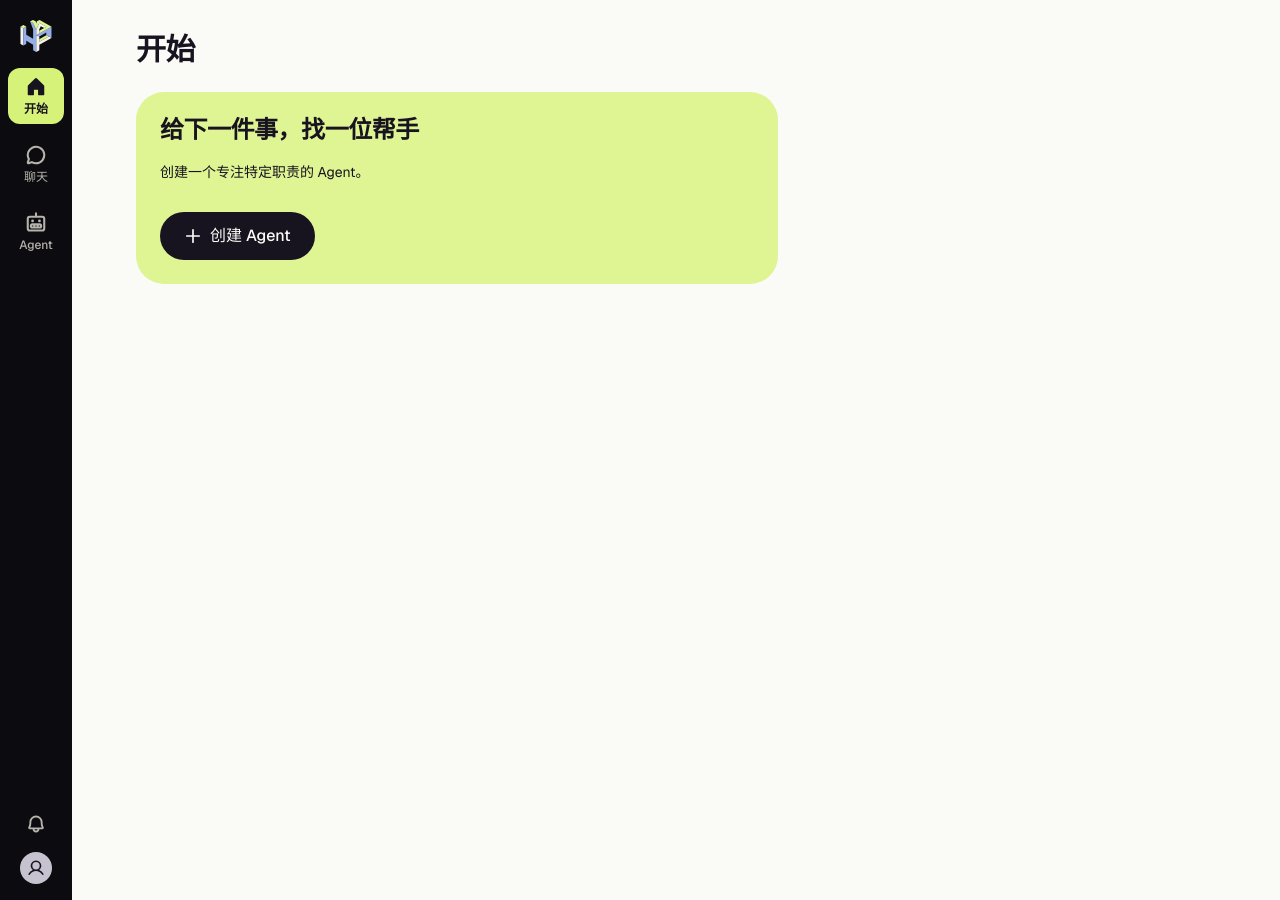
Scenario: fixture app shell › navigates between primary pages and marks the current navigation item
This screenshot has width=1280, height=900.
Click the button "聊天" at (36, 164), box [8,136,64,192]
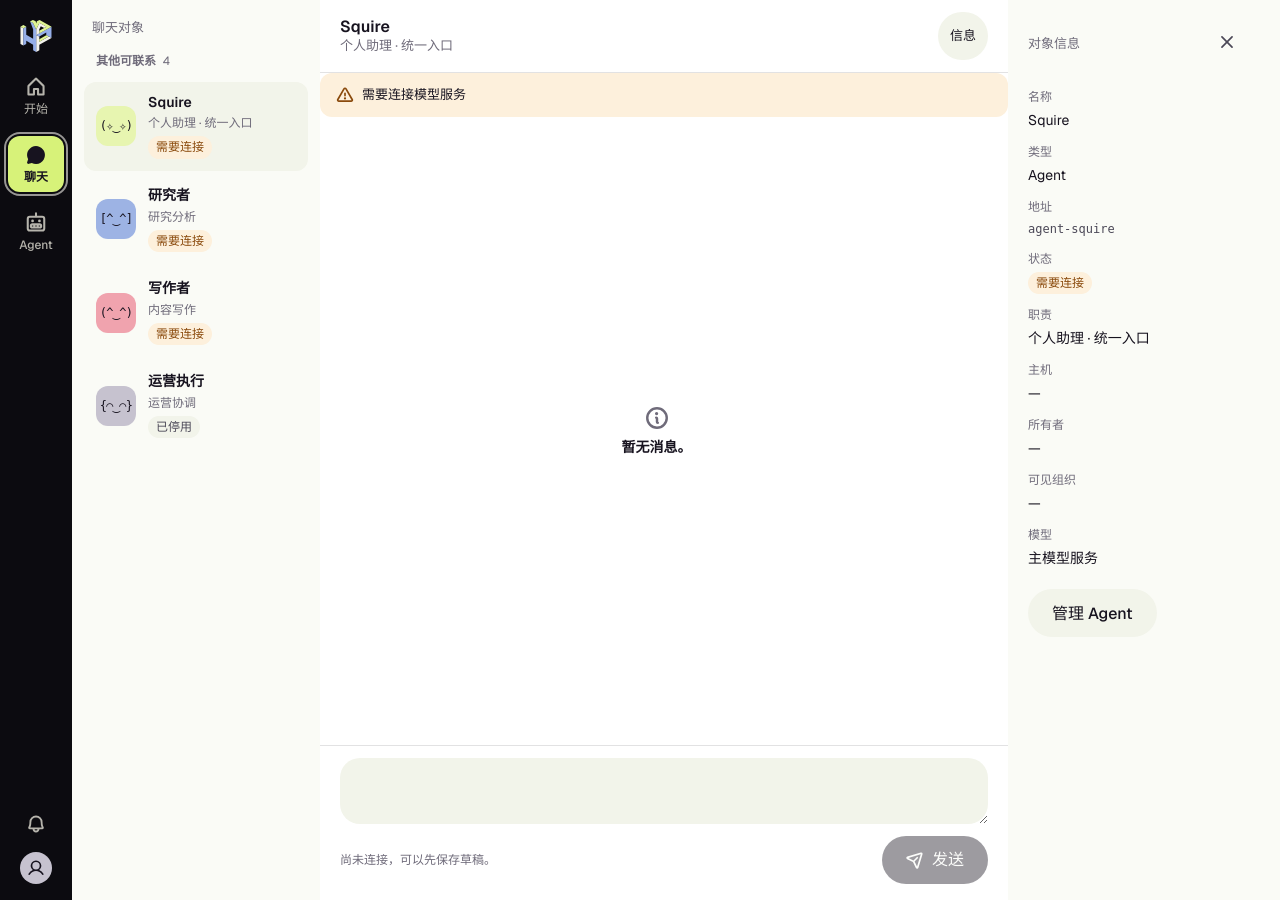
Now the button "聊天" is marked as current, box [8,136,64,192]
Click the button "Agent" at (36, 232), box [8,204,64,260]
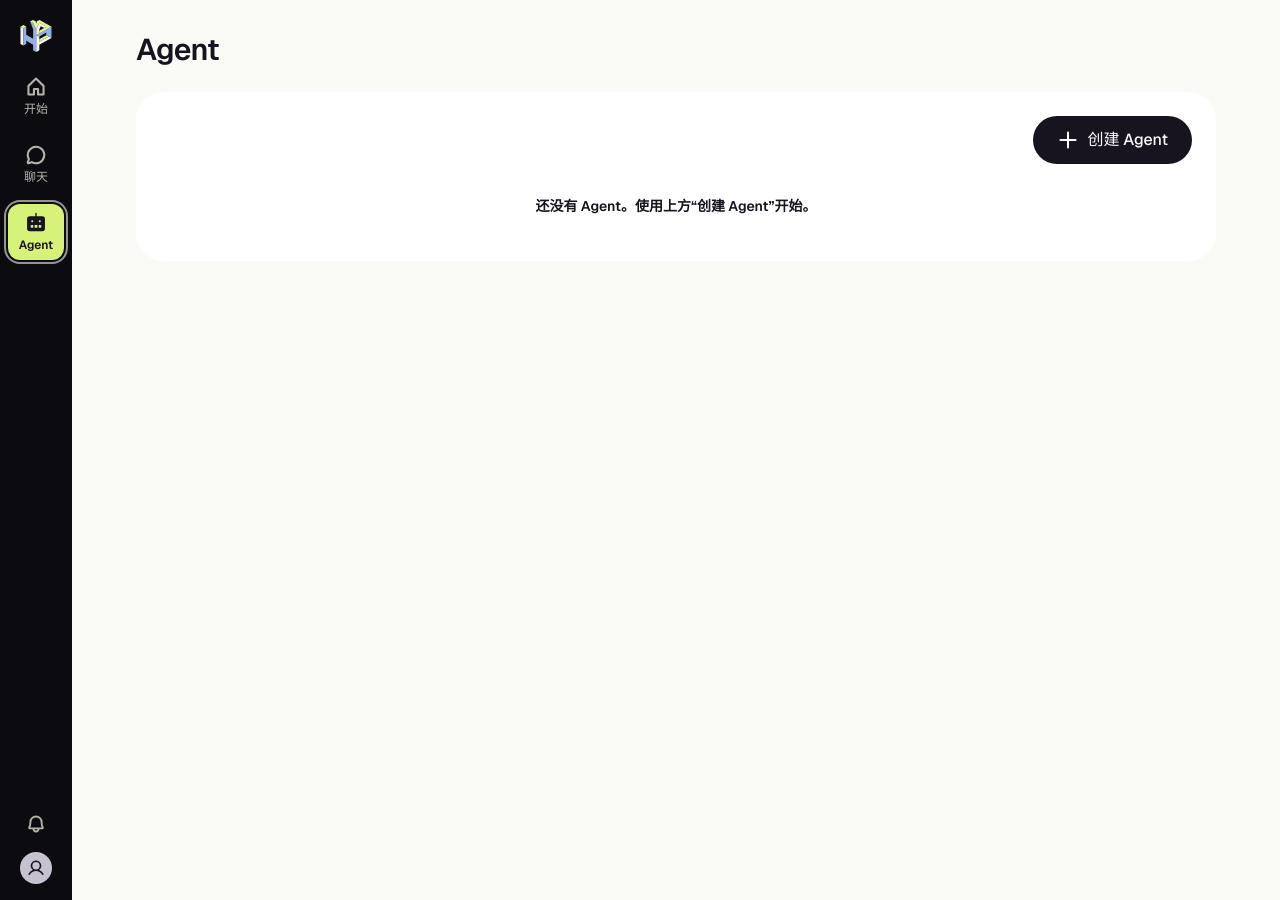
Now the heading "Agent" is shown, box [136,30,219,69]
